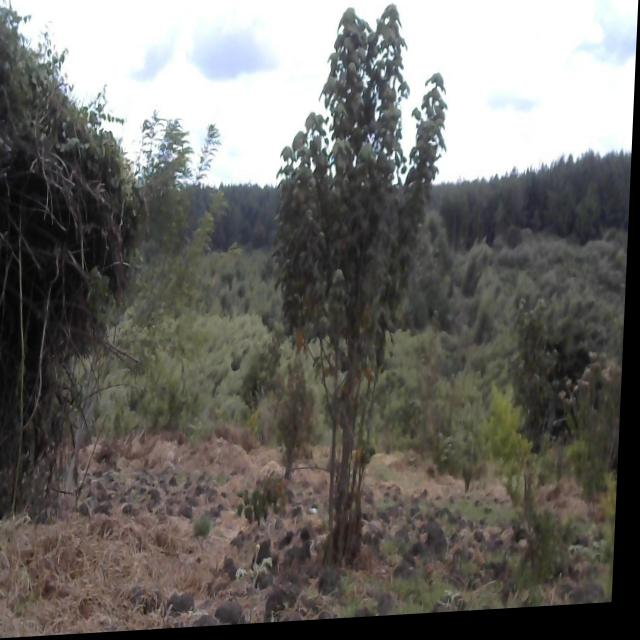Vitex keniensis: (265, 0, 454, 555)
